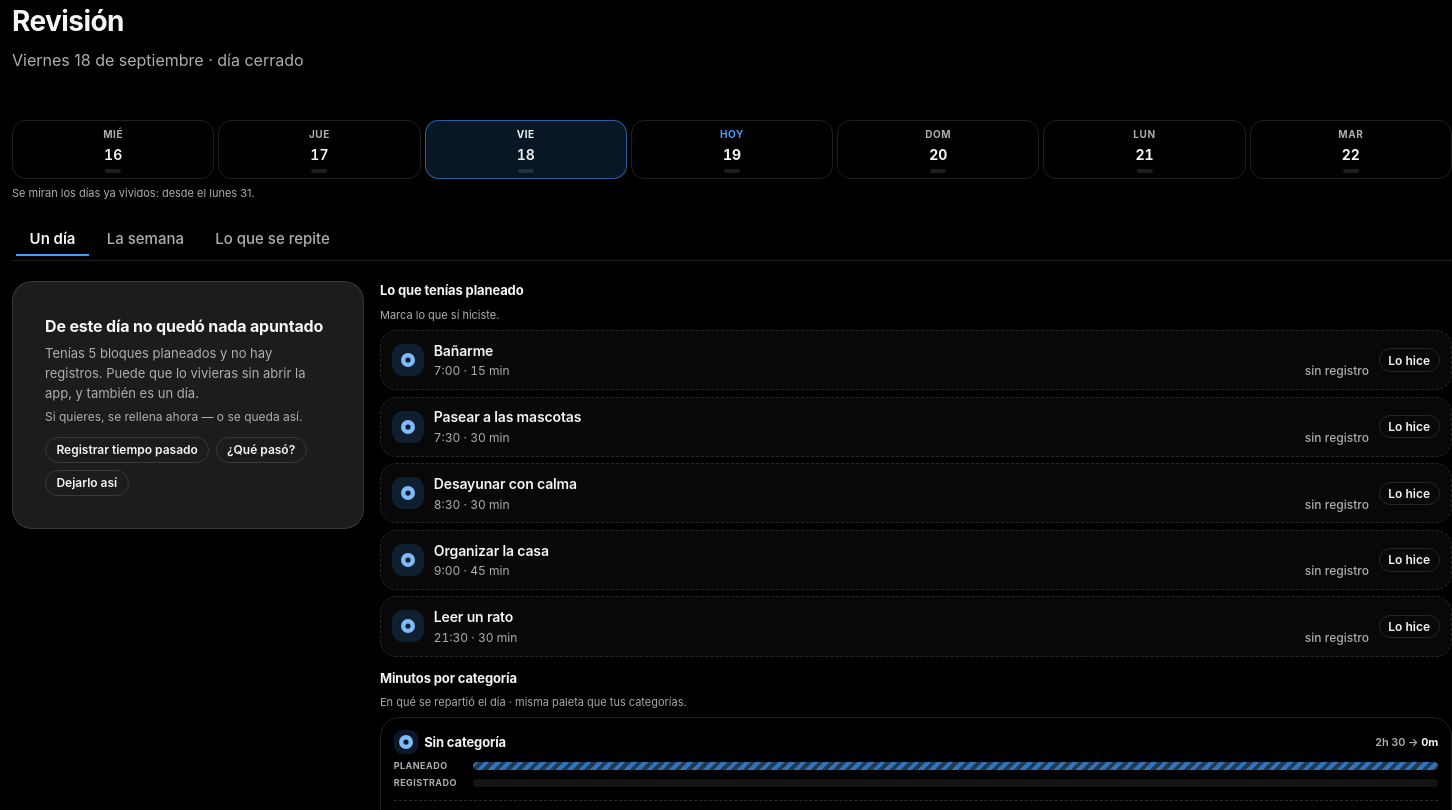
la revisión rellena el día (criterios 35–44) › el marco E trae **las tres salidas con el mismo peso visual** (criterio 39)
// «Dejarlo así» cierra el asunto **del día entero**.
Click the button "Dejarlo así": click(87, 483) [45, 470, 129, 496]
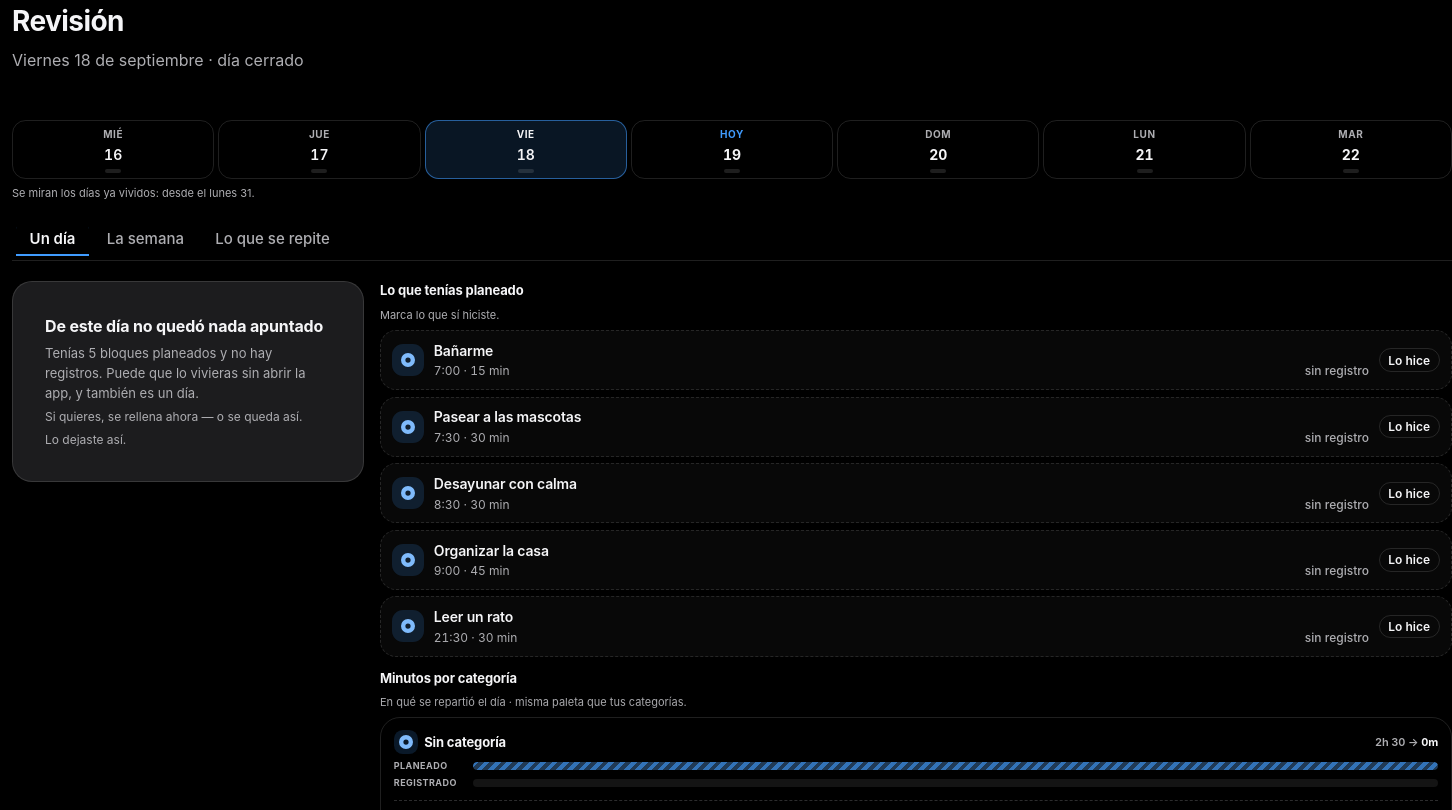
Check: the button "¿Qué pasó?" is gone
Check: the text "Lo dejaste así." is shown, box [45, 432, 126, 447]
